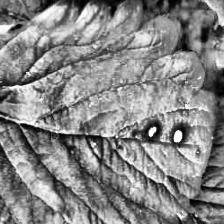Leaf Spot: (0, 0, 217, 224), (157, 124, 224, 224), (0, 21, 31, 89)
